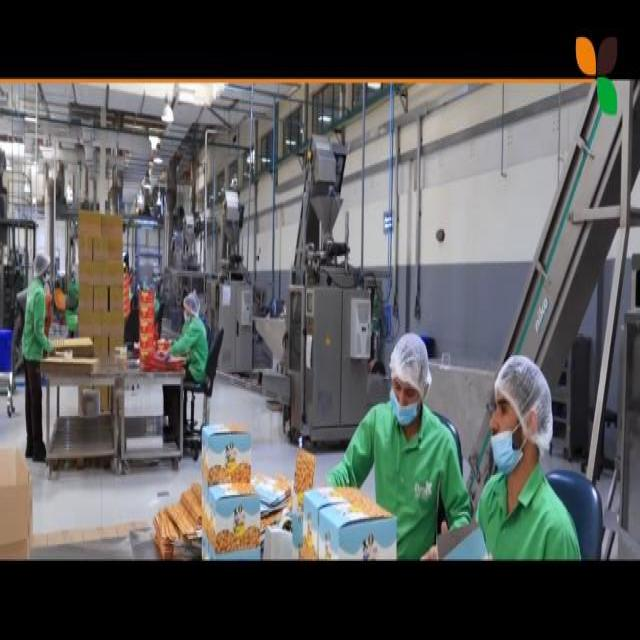hairnet: (495, 354, 553, 444), (394, 336, 429, 393), (35, 254, 51, 276), (183, 295, 197, 315)
